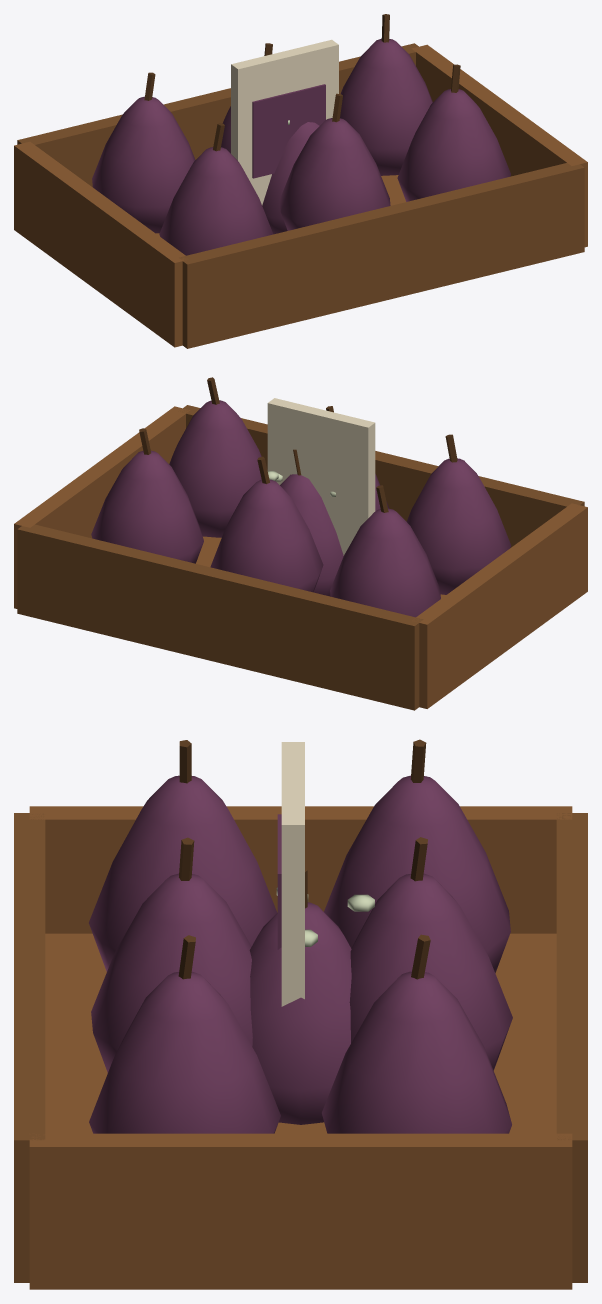
Rendered from Fruit_Fig.fbx.
3 renders of one model, top to bottom at view 1: azimuth 30°, elevation 25°; view 2: azimuth 150°, elevation 25°; view 3: azimuth 270°, elevation 25°, orthographic. The views are drawn at different scales.
Parts seen in each view (by area): view 1: Fruit_Fig__Stack, Fruit_Fig__Seed, Fruit_Fig; view 2: Fruit_Fig__Stack, Fruit_Fig__Seed, Fruit_Fig; view 3: Fruit_Fig__Stack, Fruit_Fig, Fruit_Fig__Seed.
Part boxes in pixels (x1=…): Fruit_Fig__Stack: x1=14, y1=14, x2=587, y2=348; Fruit_Fig__Seed: x1=231, y1=39, x2=338, y2=205; Fruit_Fig: x1=262, y1=122, x2=319, y2=234; Fruit_Fig__Stack: x1=14, y1=377, x2=587, y2=710; Fruit_Fig__Seed: x1=267, y1=398, x2=375, y2=555; Fruit_Fig: x1=280, y1=449, x2=343, y2=596; Fruit_Fig__Stack: x1=14, y1=739, x2=587, y2=1289; Fruit_Fig: x1=249, y1=868, x2=351, y2=1124; Fruit_Fig__Seed: x1=277, y1=742, x2=304, y2=1006.
Size of the model in its own units: 0.205 by 0.09 by 0.146.
